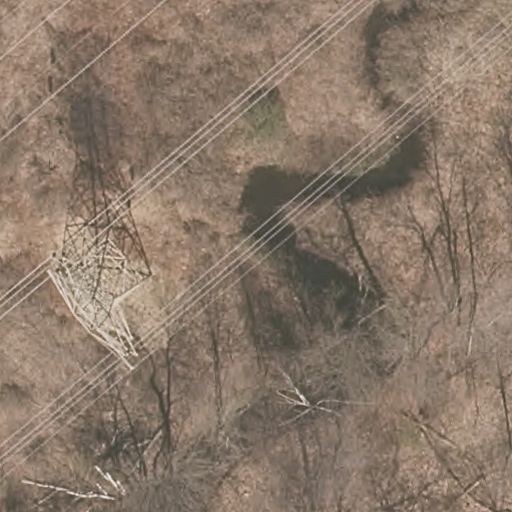TT: (51, 236, 147, 373)
